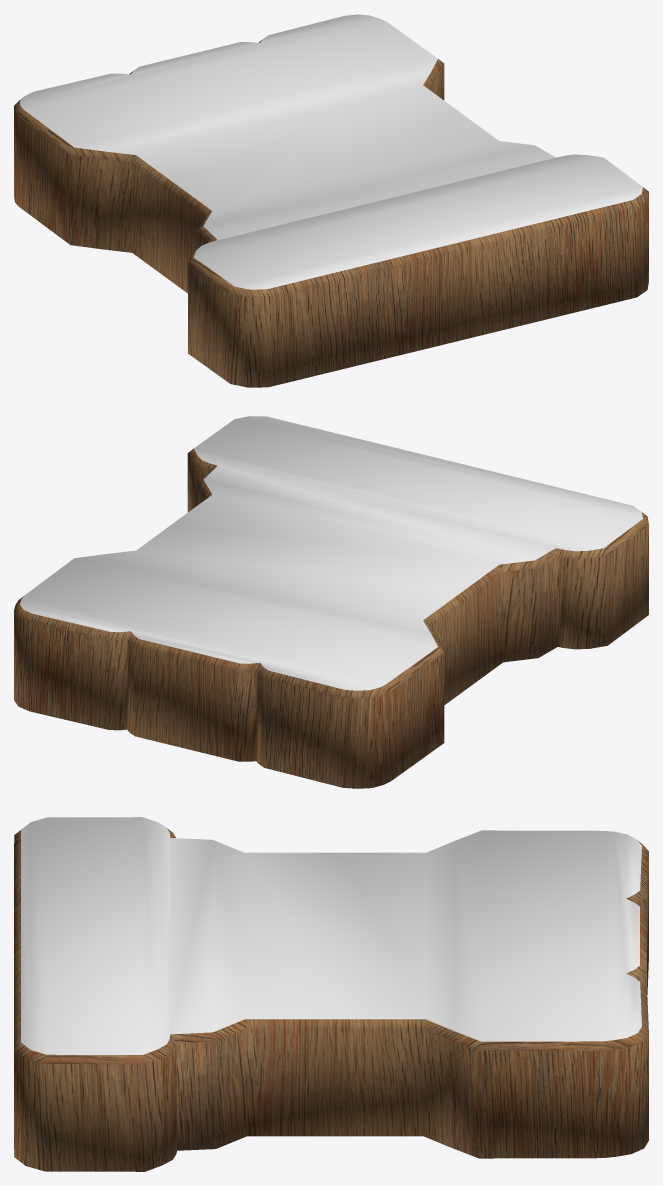
The model's file is flat3dpieces-rook.gltf.
3 renders of one model, top to bottom at view 1: azimuth 30°, elevation 25°; view 2: azimuth 150°, elevation 25°; view 3: azimuth 270°, elevation 25°, orthographic. The views are drawn at different scales.
Bounding box in the file's own units: 1.24 × 0.2705 × 1.37.
Materials: 2 (1 with a texture image).
